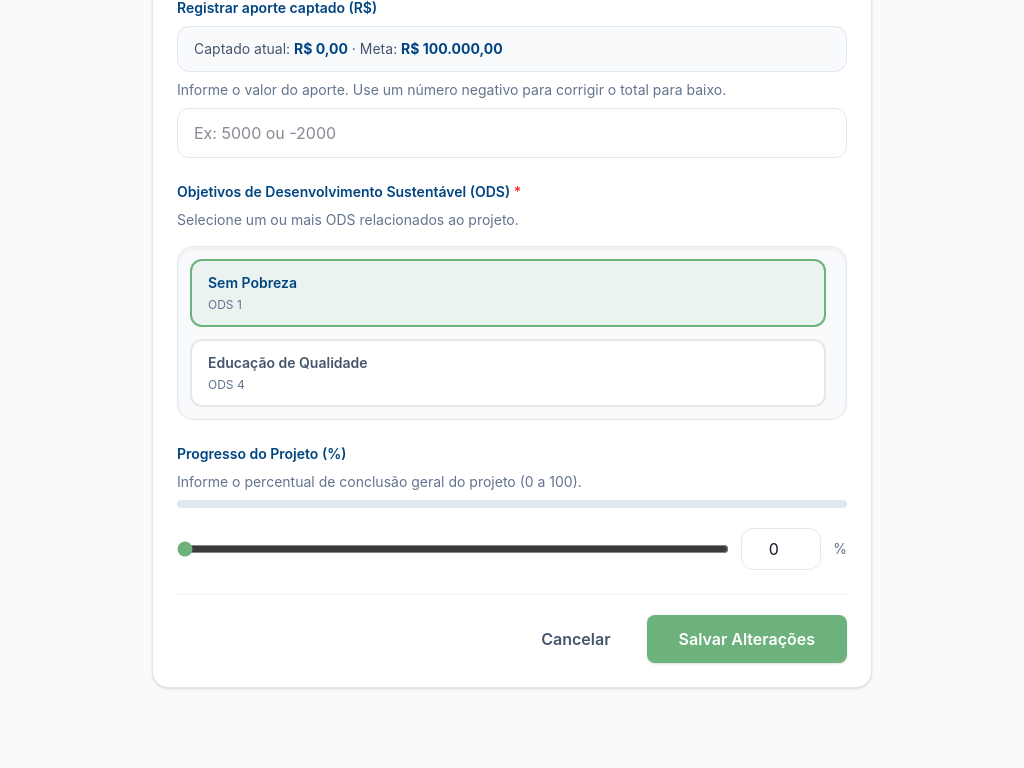
it: EditProjectPage › exibe mensagem de permissão negada em resposta 403
This screenshot has width=1024, height=768.
(page scrolled)
Click the button "Salvar Alterações" at x=747, y=639, box [646, 615, 847, 663]
(page scrolled)
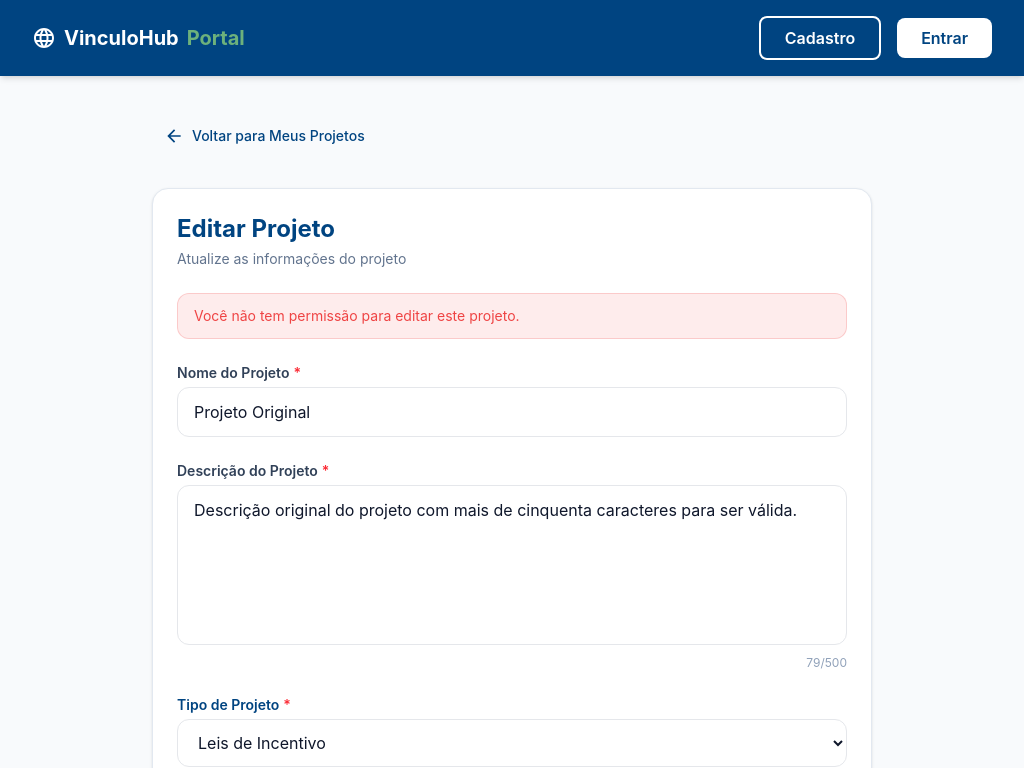
expect the text "Você não tem permissão para editar este projeto." is shown: met, box [177, 293, 847, 339]
